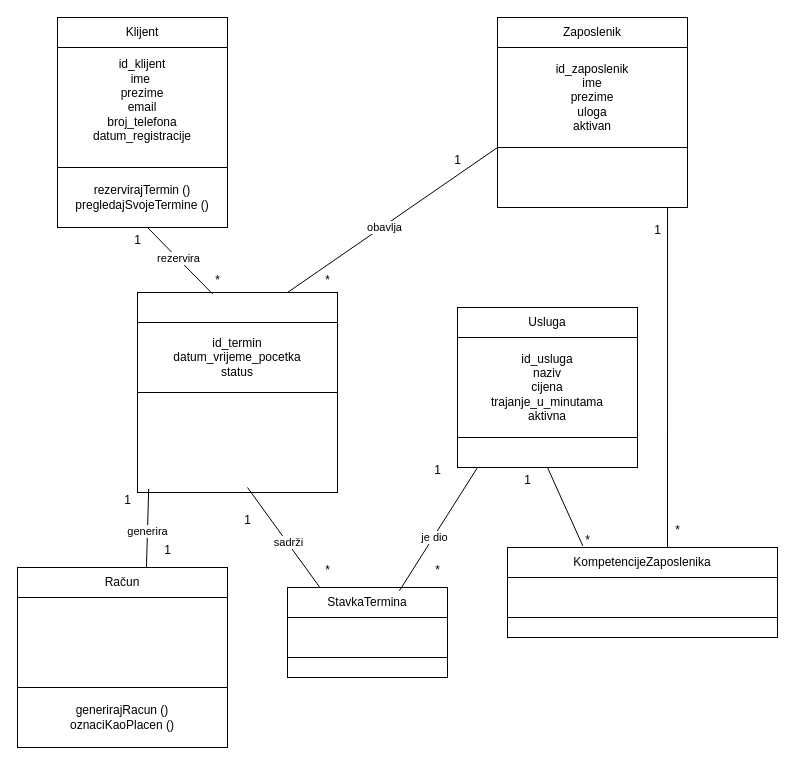
Image size: 795x765. Some labels were removed from this diagram. Each missing label, with the centre of its shape:
//Povezuje zaposlenika i uslugu: the point at 642,597
cijena_usluge: the point at 367,637
id_racun broj_racuna datum_izdavanja ukupan_iznos: the point at 122,642
kreirajTermin () otkaziTermin () promijeniStatus (): the point at 237,442
pregledajRaspored () dohvatiKompetencije (): the point at 592,177
Termin: the point at 237,307
